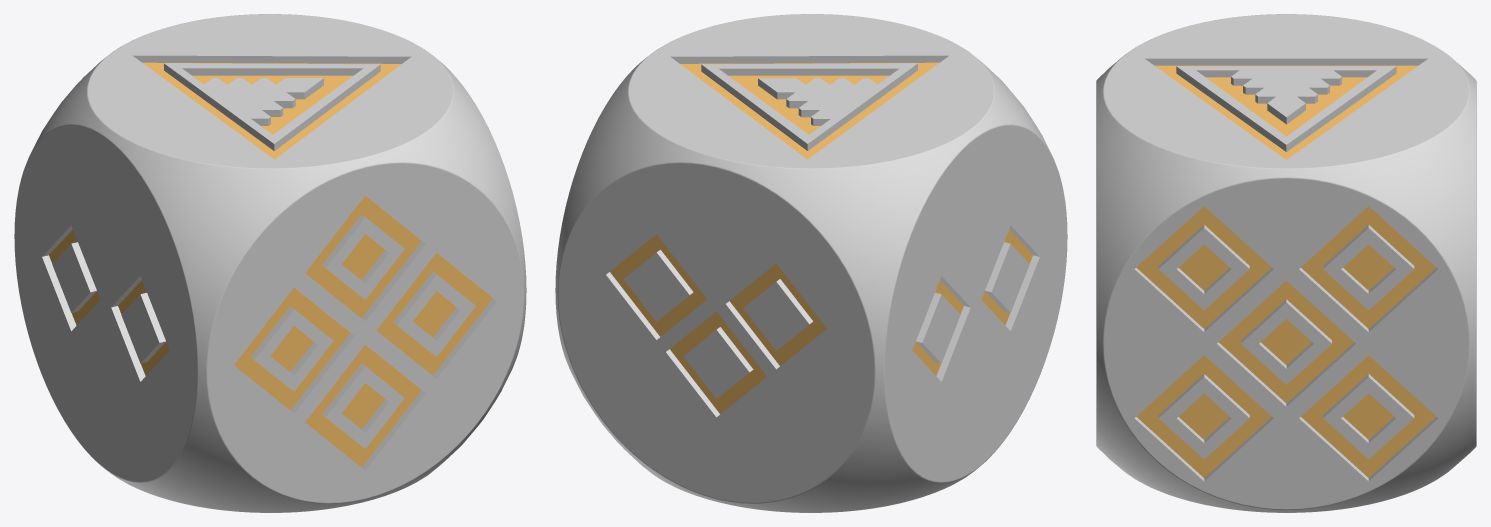
The model's file is degenesix_white.gltf.
3 renders of one model, left to right at view 1: azimuth 30°, elevation 25°; view 2: azimuth 150°, elevation 25°; view 3: azimuth 270°, elevation 25°, orthographic.
Visible parts, largest first — view 1: DegeneSIX; view 2: DegeneSIX; view 3: DegeneSIX.
Part boxes in pixels (box(x1,y1,x2,y2)): DegeneSIX: box(14, 14, 526, 512); DegeneSIX: box(555, 14, 1067, 512); DegeneSIX: box(1096, 14, 1476, 512).
Size of the model in its own units: 105 by 105 by 105.
